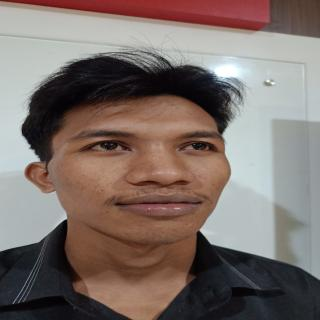Netral: (40, 92, 246, 252)
